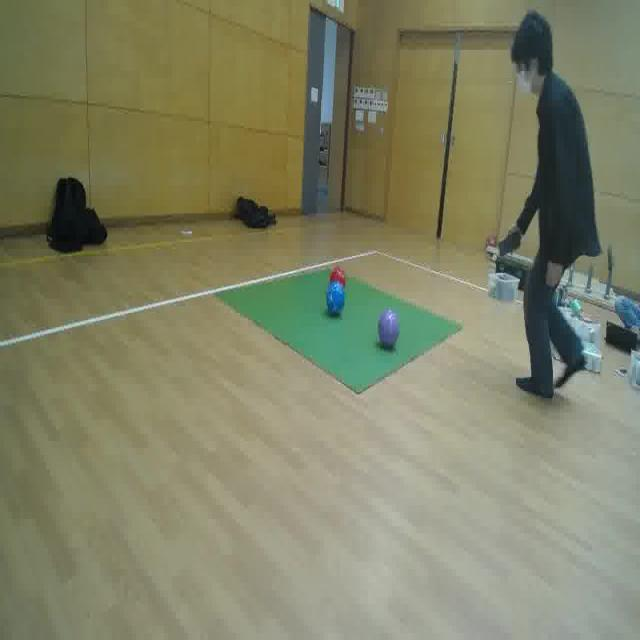blue_ball: (327, 282, 345, 314)
purple_ball: (379, 308, 399, 349)
red_ball: (329, 266, 347, 284)
